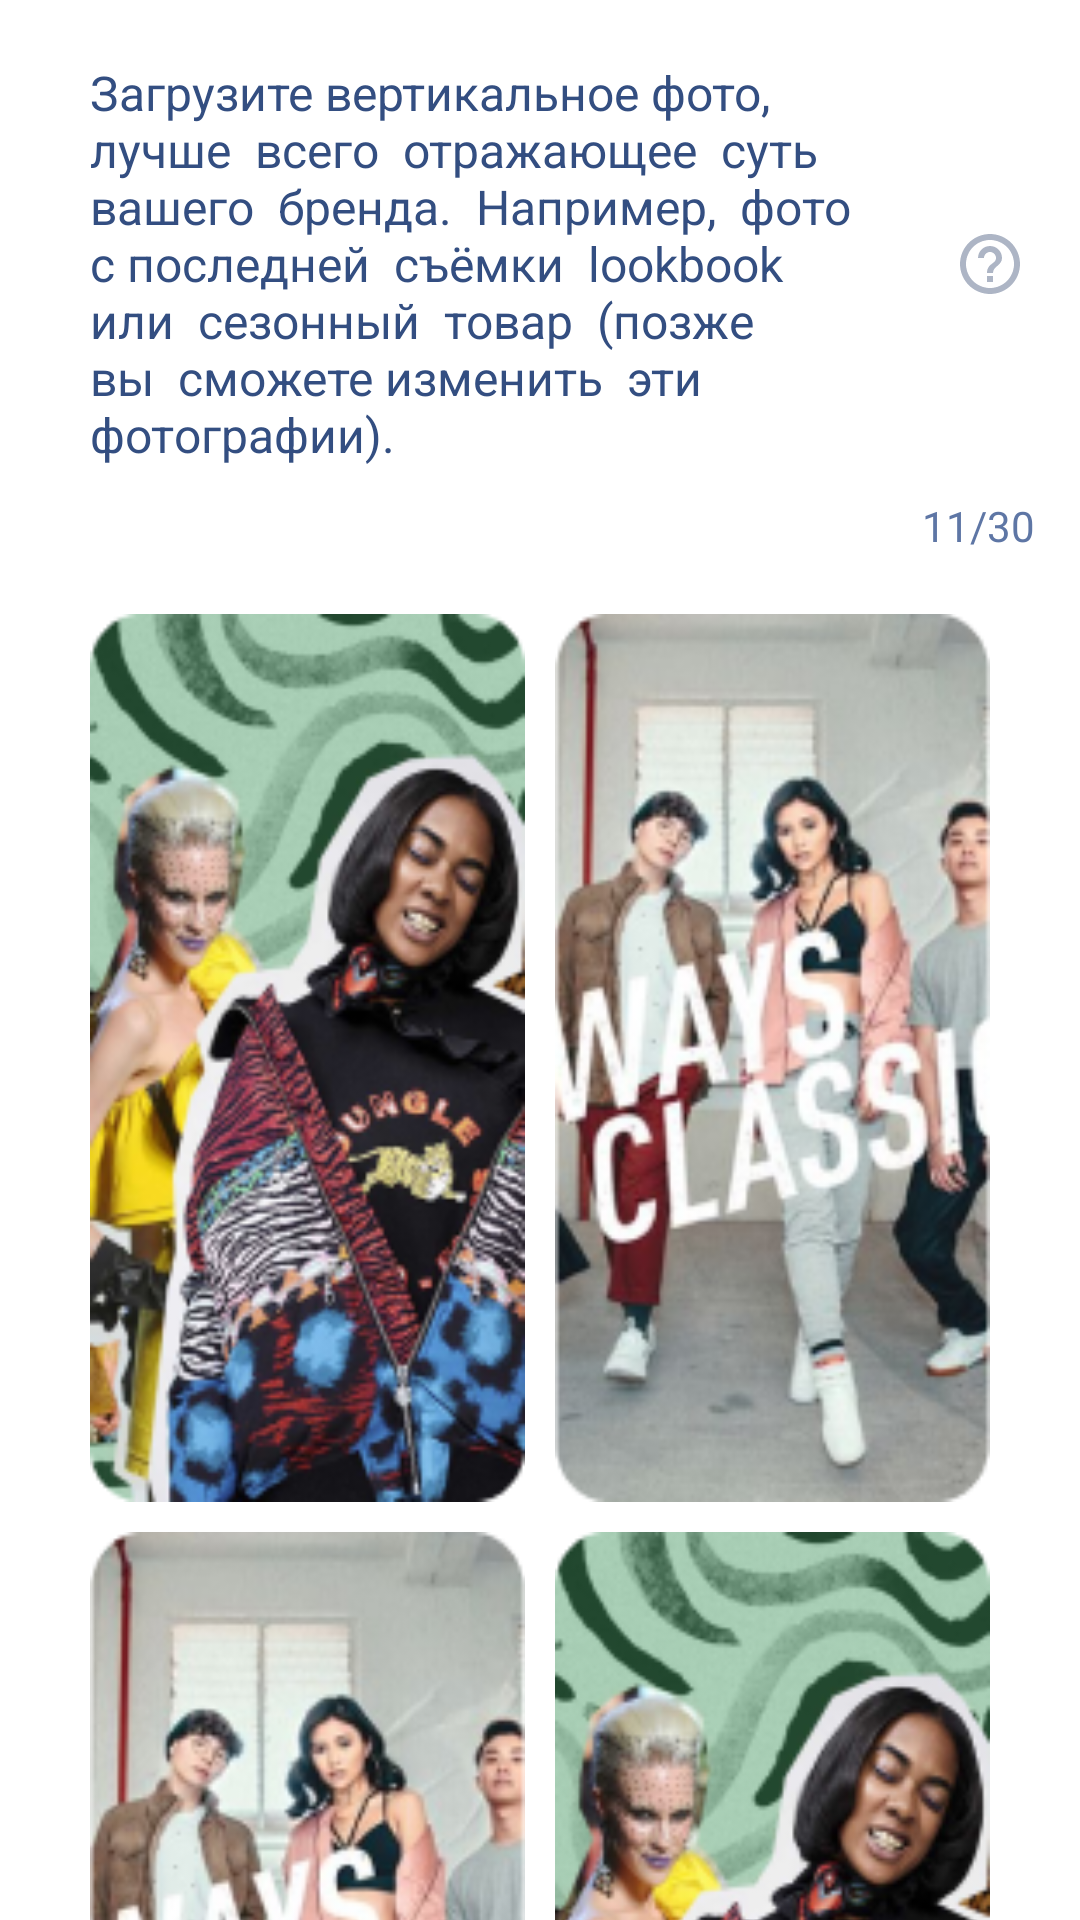

Locate icon controls on the screen. Image size 1080px x 1920px, boxes as (x1, y1, x2, y2).
help: (960, 234, 1020, 294)
